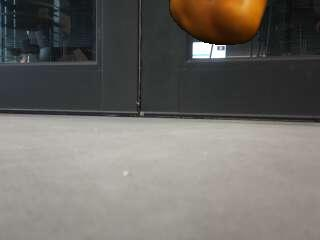Potato: (165, 0, 270, 47)
